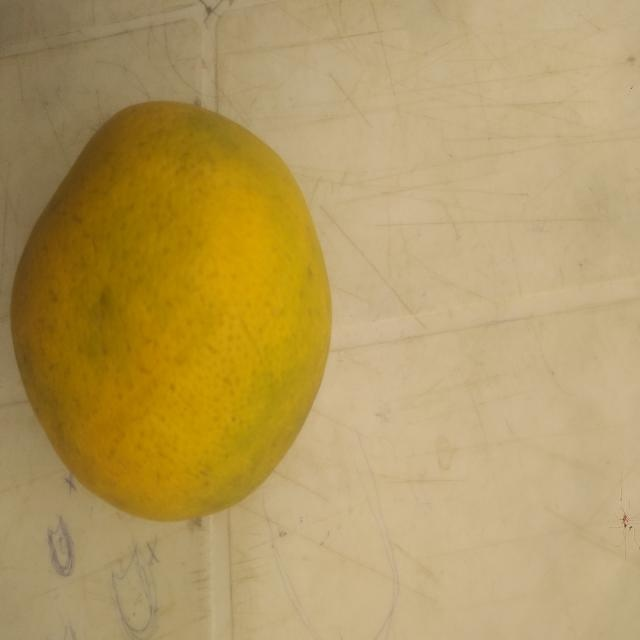agrume: (6, 78, 343, 570)
